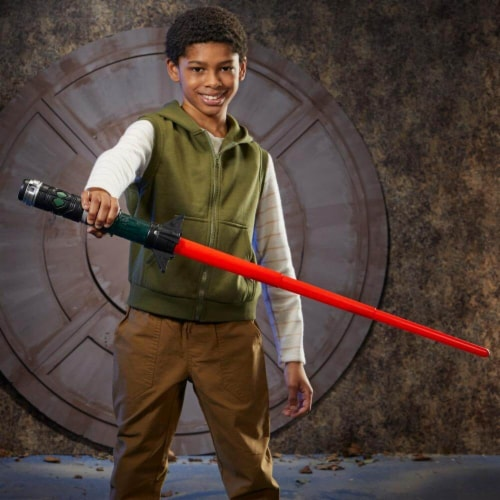lightsaber: (26, 155, 480, 366)
